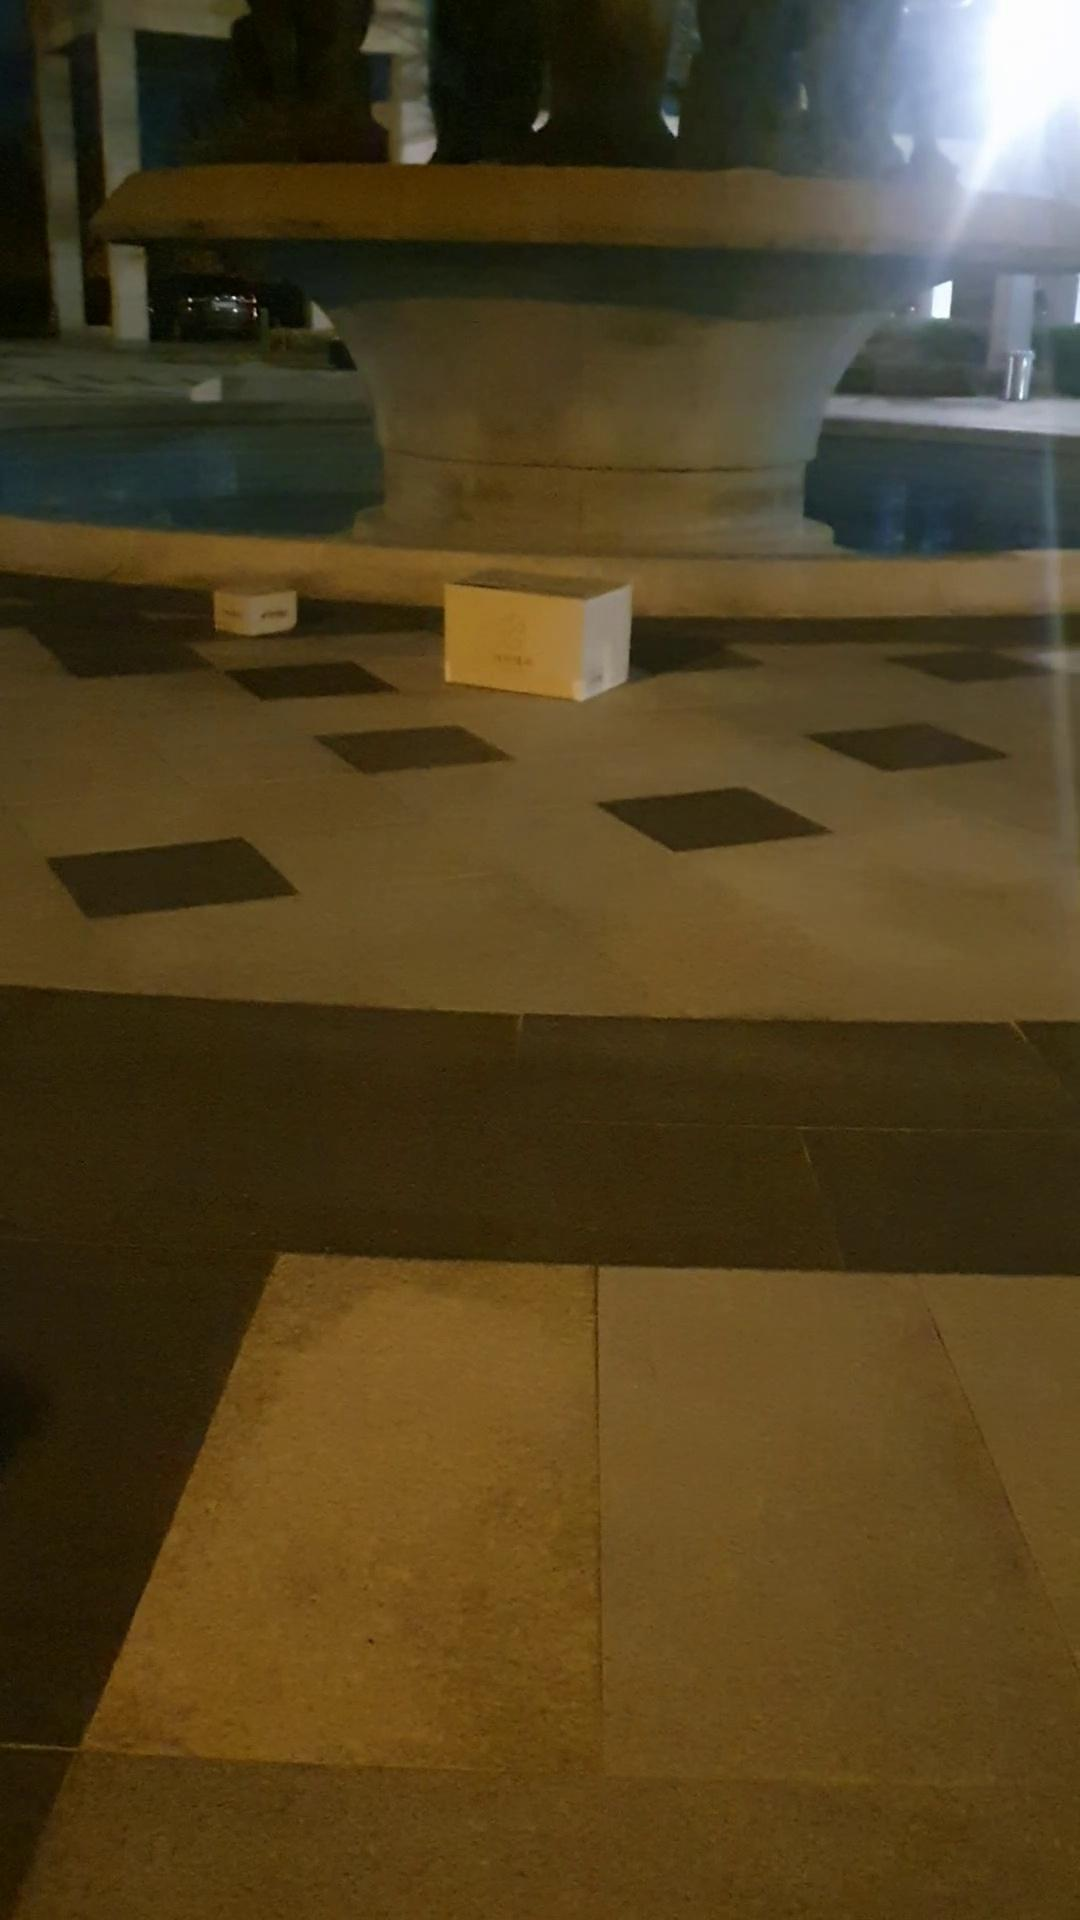Box: (433, 560, 642, 712), (208, 563, 297, 650)
